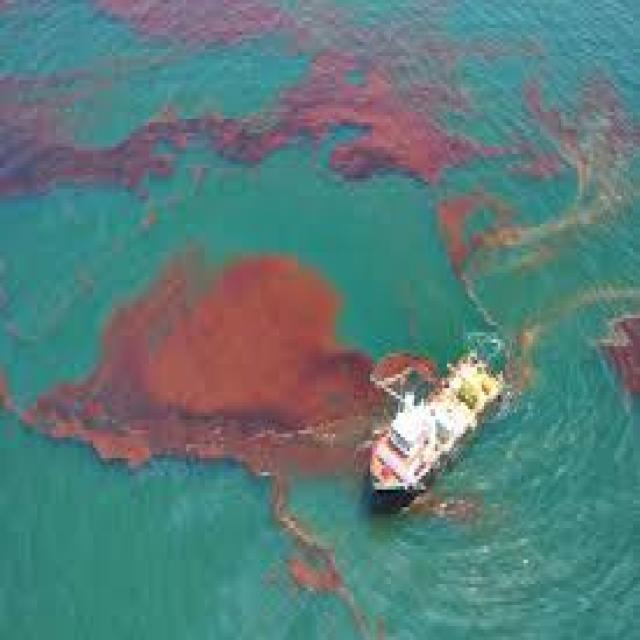truecolor: (21, 255, 379, 481), (0, 49, 482, 194)
